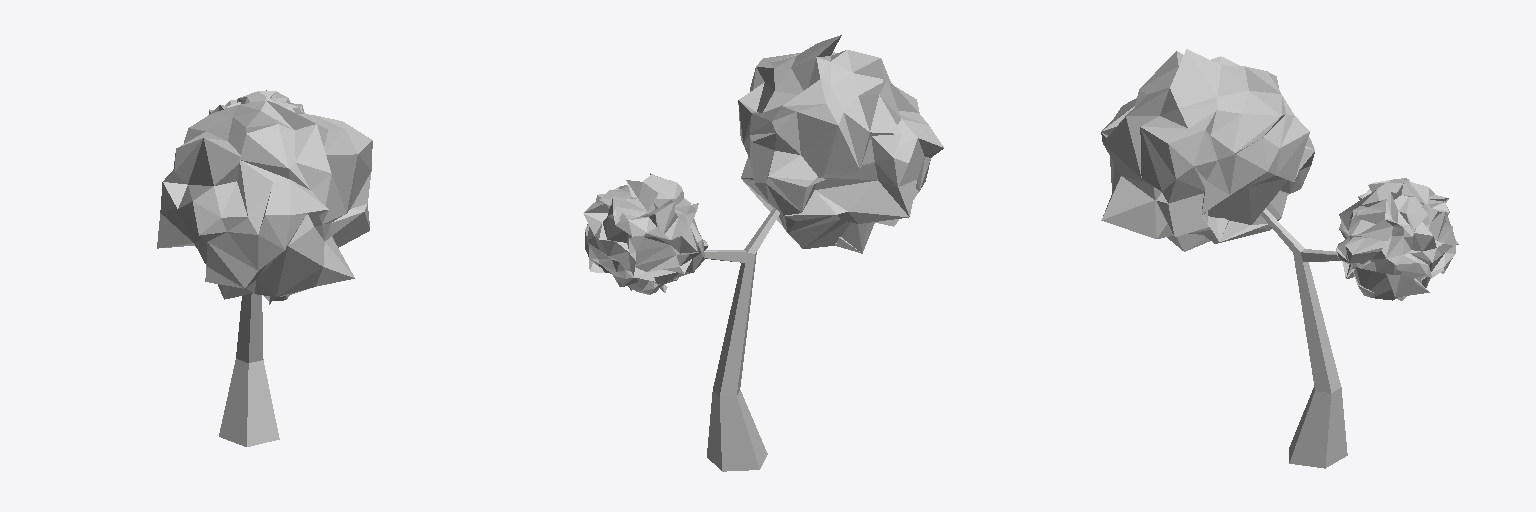
Rendered from tree4.obj.
3 views of the same model, side by side, from view 1: azimuth 30°, elevation 25°; view 2: azimuth 150°, elevation 25°; view 3: azimuth 270°, elevation 25° (orthographic).
Parts seen in each view (by area): view 1: default; view 2: default; view 3: default.
Boxes of the visible parts, box(x1,y1,x2,y2) form: default: box(157, 90, 372, 446); default: box(583, 35, 943, 471); default: box(1101, 49, 1458, 468).
Size of the model in its own units: 1.99 by 3.05 by 2.56.